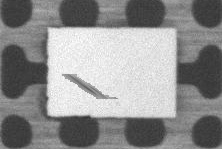DIE_INK: (61, 72, 118, 99)
